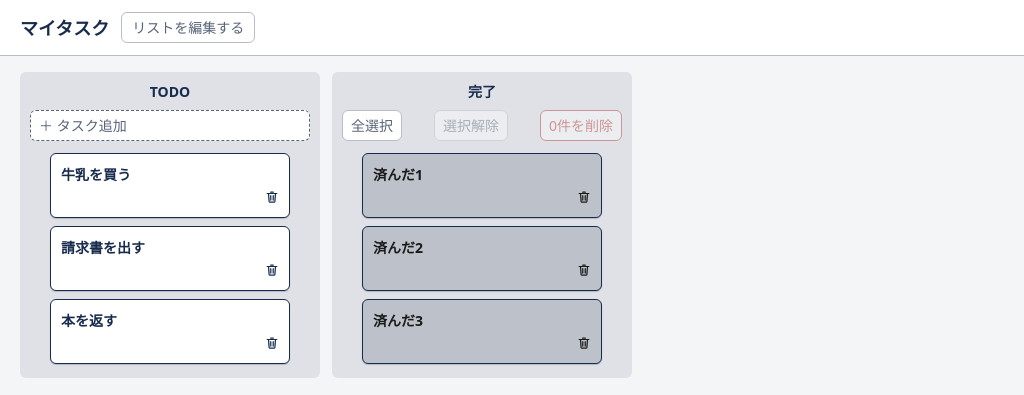
完了列の選択削除（F-15） › 「全選択」で完了列の全件が対象になる
The width and height of the screenshot is (1024, 395).
Expected: the heading "牛乳を買う" is shown, [61,165,131,184]
Step 1. Click the 4th checkbox labelled "済んだ2" → (482, 258), box [342,226,622,291]
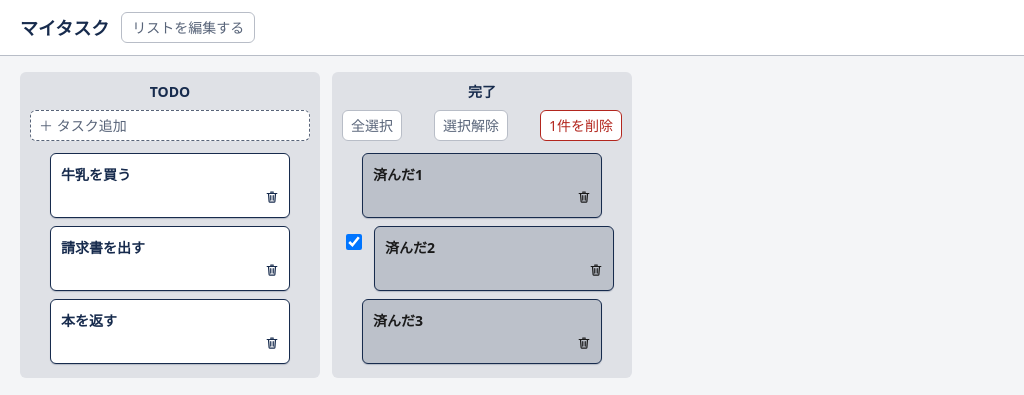
Step 2. Click the button "全選択" → (372, 126), box [342,110,402,141]
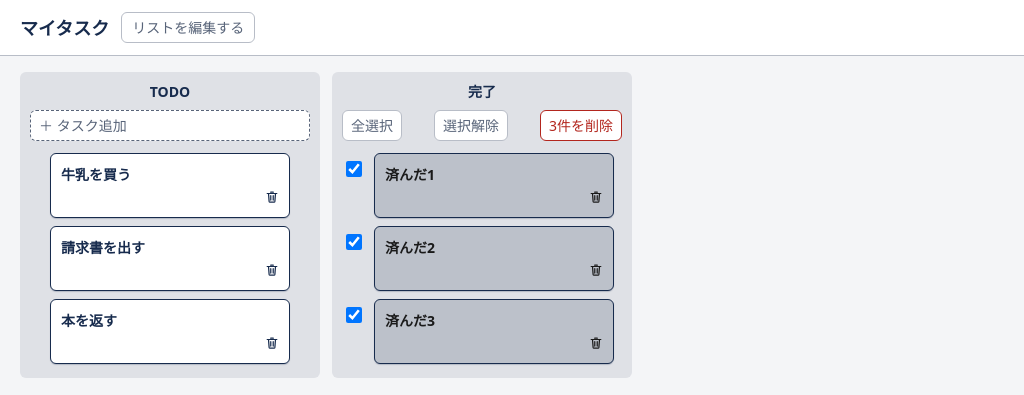
Now the button "3件を削除" is shown, box [540,110,622,141]
